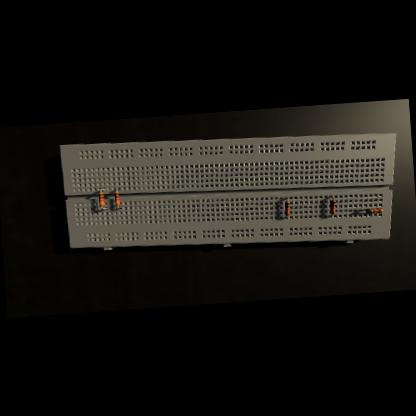breadboard: (60, 120, 402, 262)
resistor: (366, 208, 382, 214), (98, 192, 104, 206), (114, 192, 120, 206), (330, 200, 336, 214), (284, 202, 290, 215)
wire: (358, 209, 366, 211), (100, 189, 104, 192), (285, 198, 288, 201), (330, 196, 333, 199), (102, 206, 106, 208), (117, 188, 120, 190), (118, 205, 121, 207), (329, 214, 332, 216), (286, 216, 288, 218)
